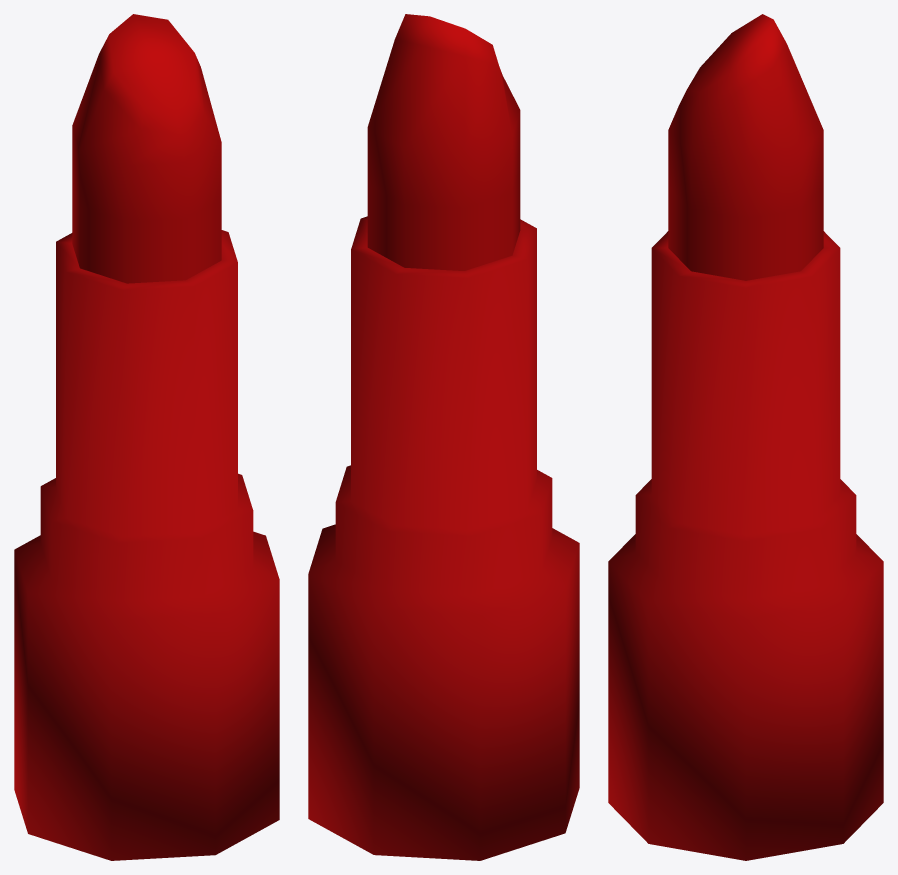
The model's file is BatomDestampado.fbx.
3 views of the same model, side by side, from view 1: azimuth 30°, elevation 25°; view 2: azimuth 150°, elevation 25°; view 3: azimuth 270°, elevation 25° (orthographic). The views are drawn at different scales.
Parts seen in each view (by area): view 1: Batom_Destampado, Batom_Ponta; view 2: Batom_Destampado, Batom_Ponta; view 3: Batom_Destampado, Batom_Ponta.
Boxes of the visible parts, x1,y1,x2,y2 form: Batom_Destampado: [14, 230, 279, 860]; Batom_Ponta: [72, 14, 221, 283]; Batom_Destampado: [308, 216, 579, 860]; Batom_Ponta: [367, 14, 520, 270]; Batom_Destampado: [608, 231, 883, 860]; Batom_Ponta: [668, 14, 823, 280].
Size of the model in its own units: 1.8 by 5.65 by 1.8.
